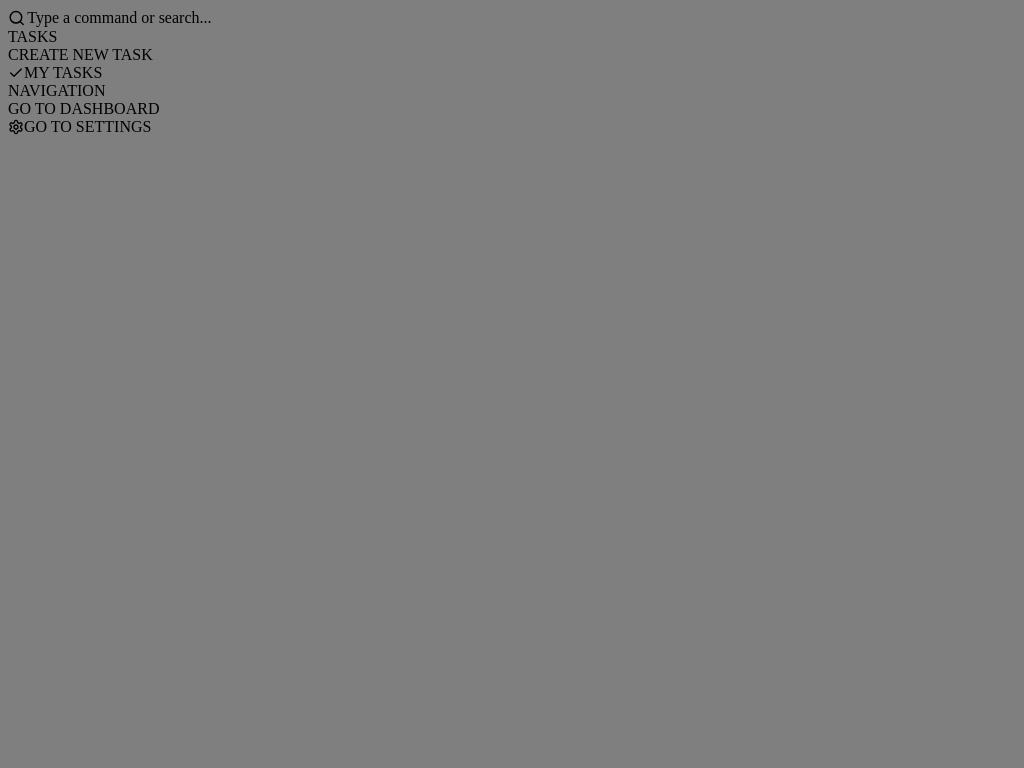
CommandPalette › filters items based on input
Type "settings" into the dropdown with placeholder "Type a command or search...".
click(317, 18); type("settings")  # box [25,8,608,28]
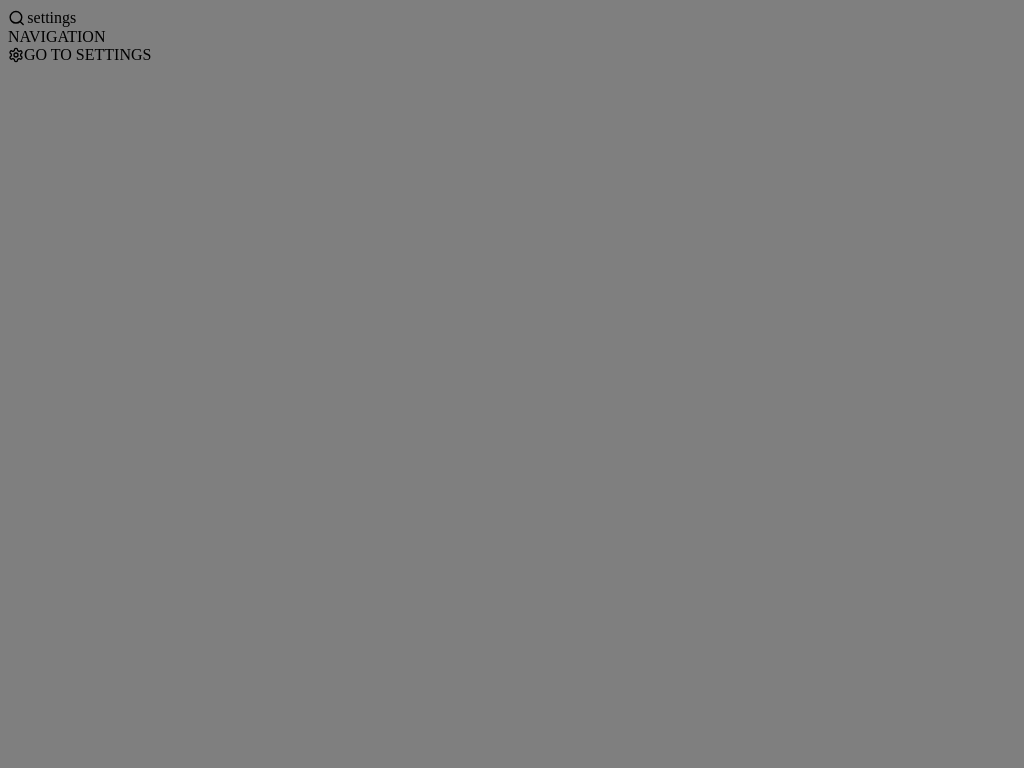
Expected: the option "Go to Settings" is shown, [8,46,151,63]
Result: the option "Create New Task" is gone
